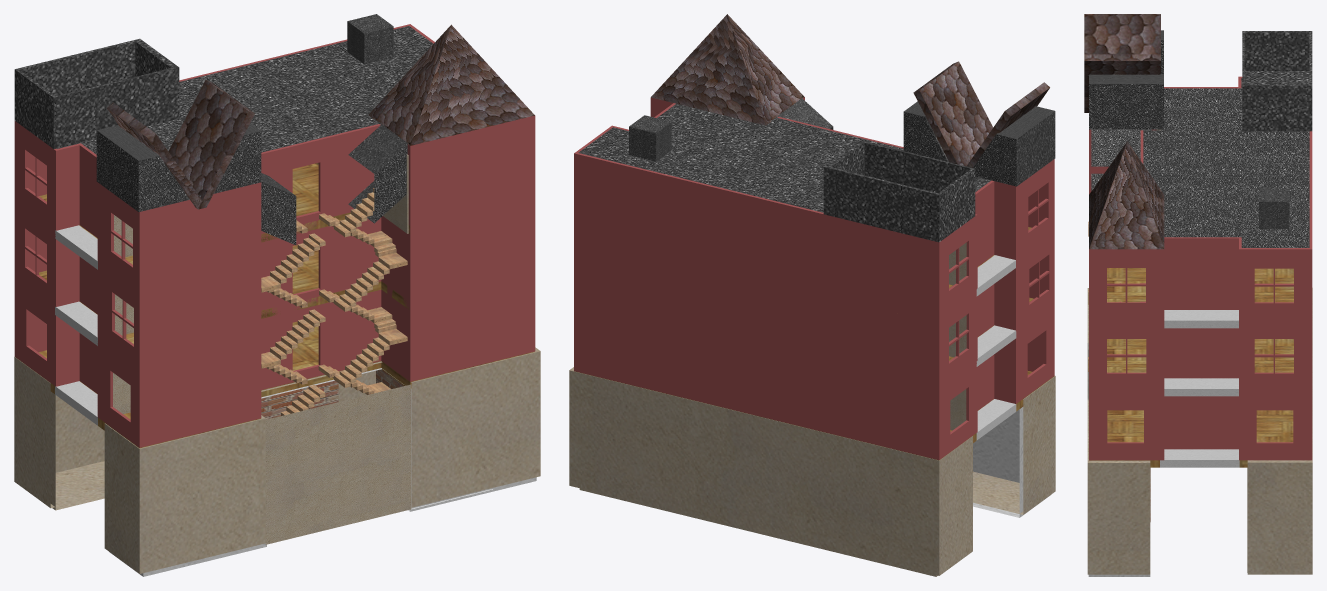
Rendered from sammy_building.fbx.
The picture shows the model from 3 angles, left to right: view 1: azimuth 30°, elevation 25°; view 2: azimuth 150°, elevation 25°; view 3: azimuth 270°, elevation 25°; orthographic projection. The views are drawn at different scales.
Visible parts, largest first — view 1: exterior wall top, first floor wall, bottom floor, Base floor 4, Stairs, A_BRIDGE, 2nd floor bathroom, Object_133, Object_70; view 2: exterior wall top, bottom floor, first floor wall, Base floor 4, A_BRIDGE, 2nd floor bathroom; view 3: exterior wall top, Base floor 4, first floor wall, bottom floor, A_BRIDGE.
Part boxes in pixels (x1,y1,x2,y2): exterior wall top: (14,24,535,447); first floor wall: (14,14,534,544); bottom floor: (14,347,540,576); Base floor 4: (15,26,534,448); Stairs: (261,188,407,415); A_BRIDGE: (107,80,254,209); 2nd floor bathroom: (113,215,133,414); Object_133: (261,380,338,419); Object_70: (383,154,408,233); exterior wall top: (574,97,1054,459); bottom floor: (569,367,1055,576); first floor wall: (629,14,1055,242); Base floor 4: (575,103,1054,460); A_BRIDGE: (913,61,1049,167); 2nd floor bathroom: (949,242,966,430); exterior wall top: (1089,76,1312,460); Base floor 4: (1089,78,1309,467); first floor wall: (1089,30,1312,249); bottom floor: (1087,288,1312,576); A_BRIDGE: (1084,14,1160,112).
Bounding box in the file's own units: 632 × 686 × 349.
20 materials, 18 textured.
